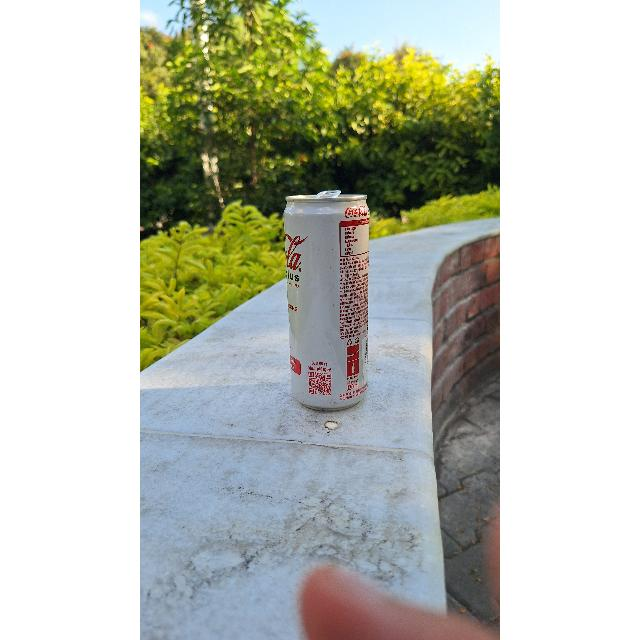Coca Cola Plus: (278, 187, 379, 416)
